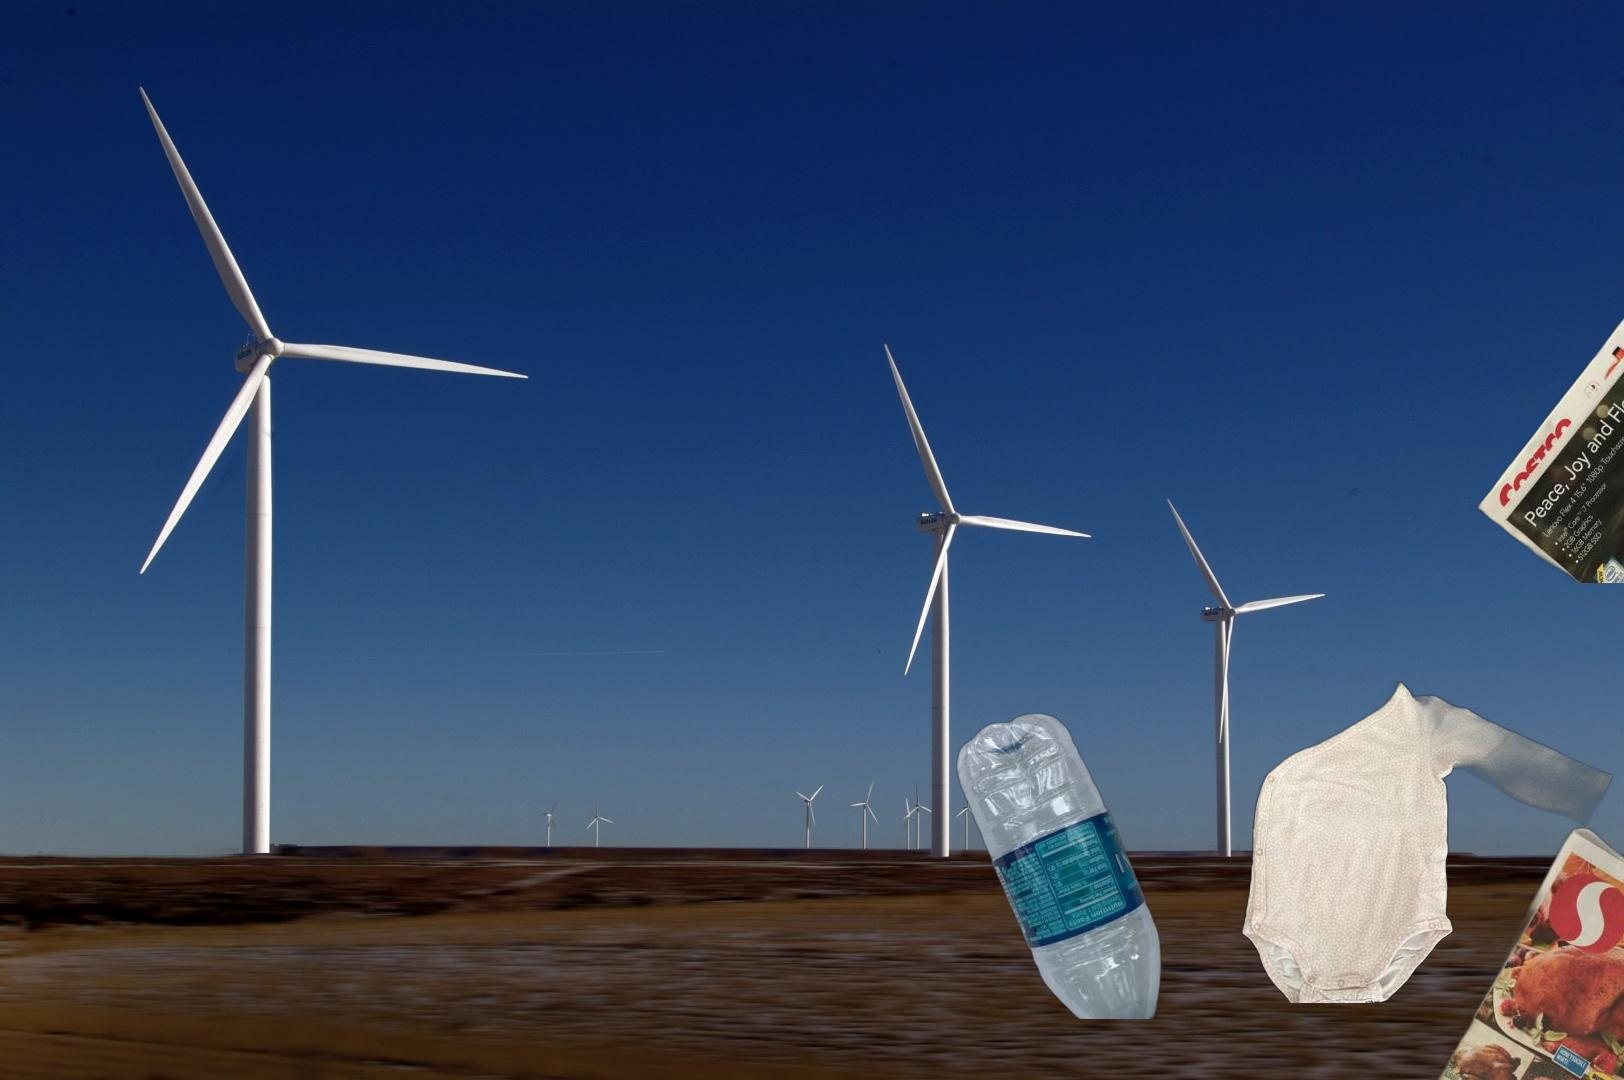clothes: (1237, 679, 1616, 1003)
paper: (1473, 199, 1624, 583), (1410, 824, 1624, 1080)
plastic-bottles: (952, 710, 1165, 1019)
